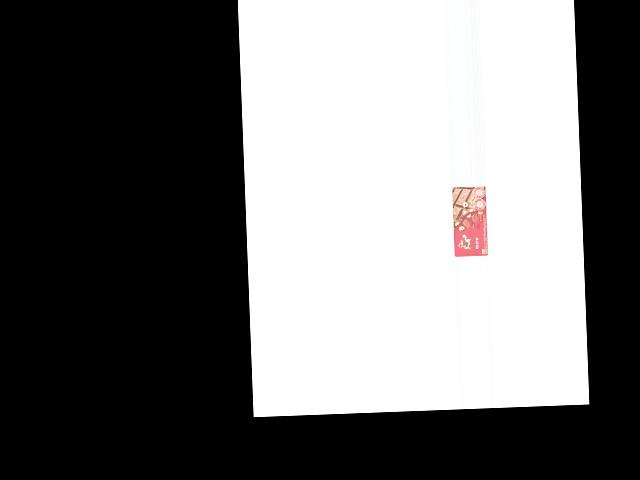chocolate: (451, 186, 489, 257)
